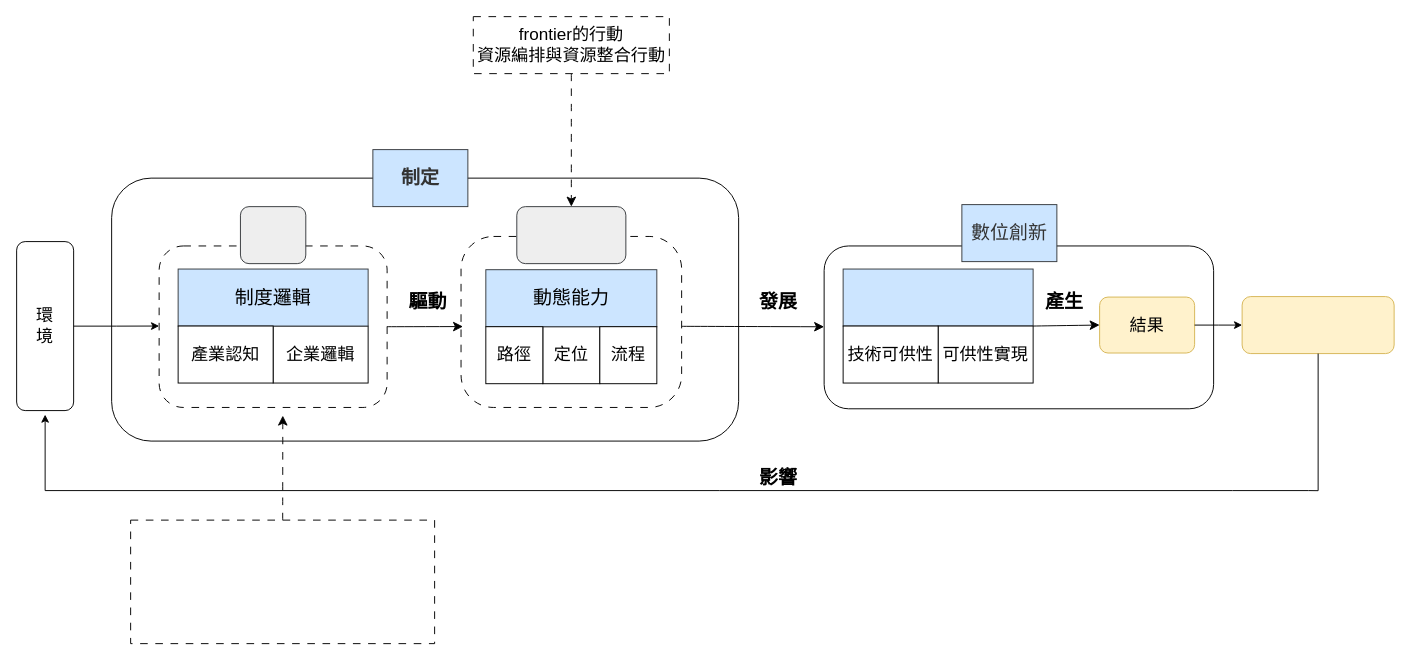
Some shapes in this 1411 by 660 pixel diagram are drawn without their labels. The box of each missing label's shape, as (x1, y1, x2, y2) in pixels:
數位創新 產品與服務: (1241, 296, 1394, 354)
科技可供性: (842, 268, 1033, 326)
認知: (239, 206, 306, 264)
資源整合 行動: (516, 206, 626, 264)
透過分析紡織產業認知，包含產業文化、信念、價值觀、現有痛點等來制定企業邏輯，並說明不同階段之 制度邏輯中影響企業決策與行動: (130, 519, 435, 644)
